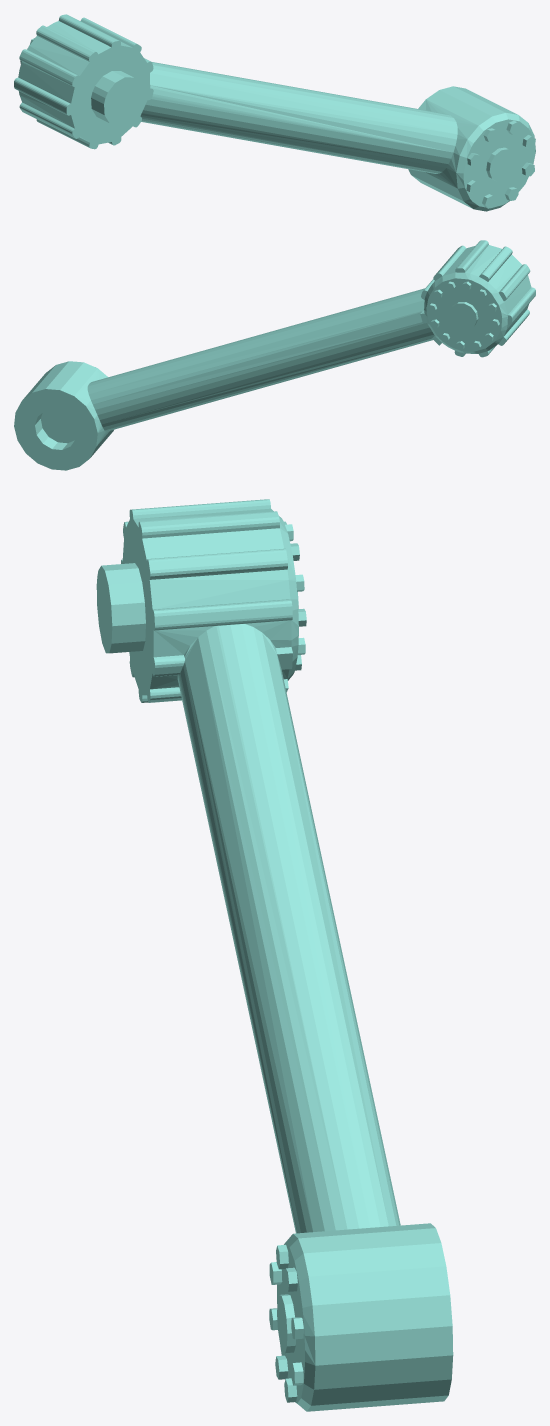
The model's file is Mars6Mars_Rover__Curiosity_1_0__-_17__Arm_2-2.001.dae.
The picture shows the model from 3 angles, top to bottom: view 1: azimuth 30°, elevation 25°; view 2: azimuth 150°, elevation 25°; view 3: azimuth 270°, elevation 25°; orthographic projection. The views are drawn at different scales.
Parts seen in each view (by area): view 1: tmp_export_Mars6Mars_Rover__Curiosity_1_0__-_17__Arm_2-2.001; view 2: tmp_export_Mars6Mars_Rover__Curiosity_1_0__-_17__Arm_2-2.001; view 3: tmp_export_Mars6Mars_Rover__Curiosity_1_0__-_17__Arm_2-2.001.
Part boxes in pixels (left/top/right/bottom): tmp_export_Mars6Mars_Rover__Curiosity_1_0__-_17__Arm_2-2.001: left=14, top=14, right=535, bottom=211; tmp_export_Mars6Mars_Rover__Curiosity_1_0__-_17__Arm_2-2.001: left=14, top=240, right=535, bottom=470; tmp_export_Mars6Mars_Rover__Curiosity_1_0__-_17__Arm_2-2.001: left=96, top=499, right=453, bottom=1411.
Size of the model in its own units: 1.62 by 0.5423 by 0.879.
